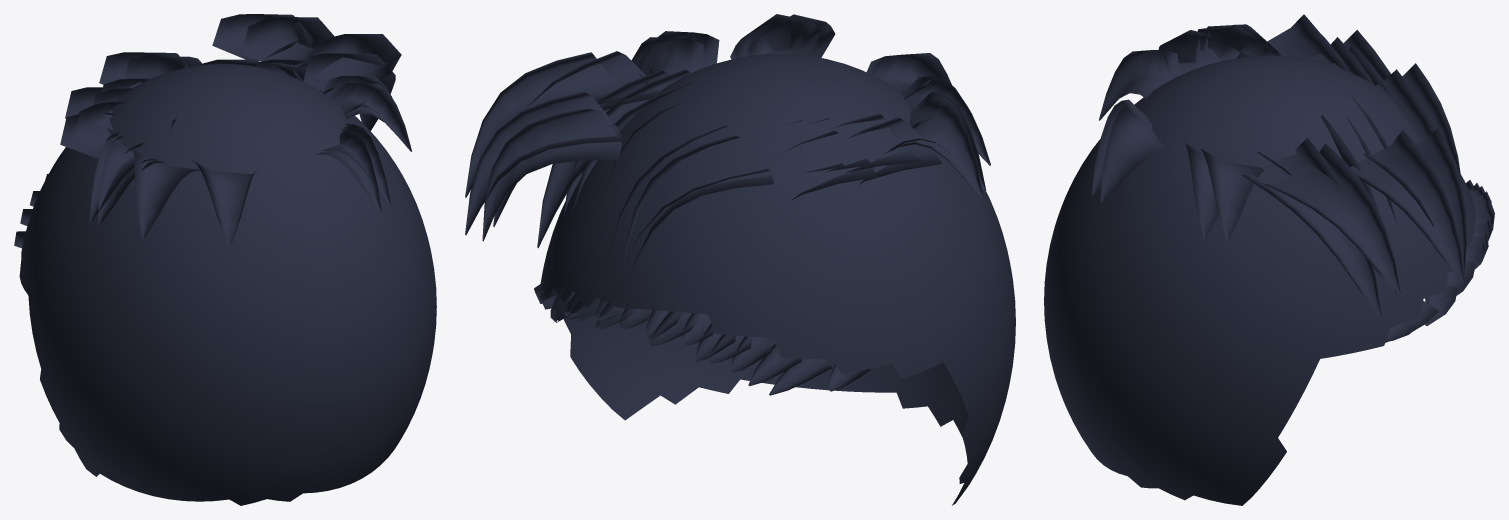
File: anime_hair_undercut.glb
3 renders of one model, left to right at view 1: azimuth 30°, elevation 25°; view 2: azimuth 150°, elevation 25°; view 3: azimuth 270°, elevation 25°, orthographic. The views are drawn at different scales.
Visible parts, largest first — view 1: hair_cap, hair; view 2: hair_cap, hair; view 3: hair_cap, hair.
Part boxes in pixels (box(x1,y1,x2,y2)): hair_cap: box(19, 64, 436, 505); hair: box(14, 14, 411, 248); hair_cap: box(540, 53, 1015, 505); hair: box(465, 14, 990, 395); hair_cap: box(1044, 56, 1475, 505); hair: box(1092, 14, 1494, 342).
Bounding box in the file's own units: 0.3087 × 0.2633 × 0.297.
